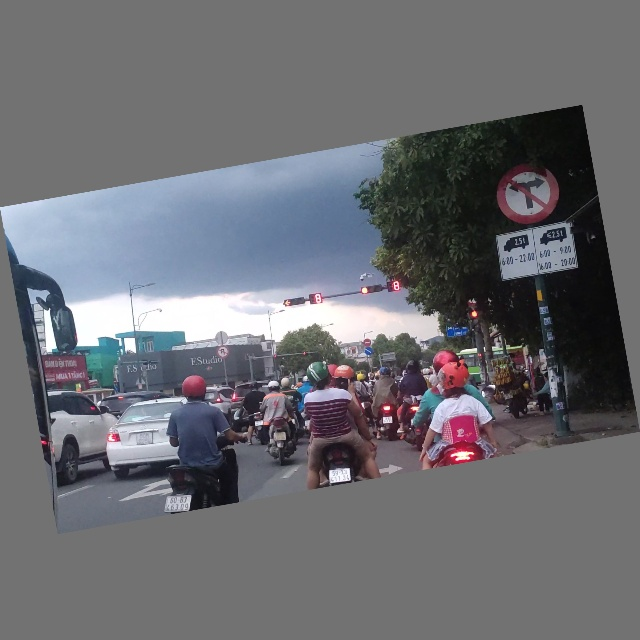P.102: (362, 338, 372, 348)
P.124a*: (215, 345, 230, 360)
P.137: (491, 158, 564, 230)
R.302a: (364, 347, 373, 357)
S.505a*Xe tai: (494, 222, 579, 282)
